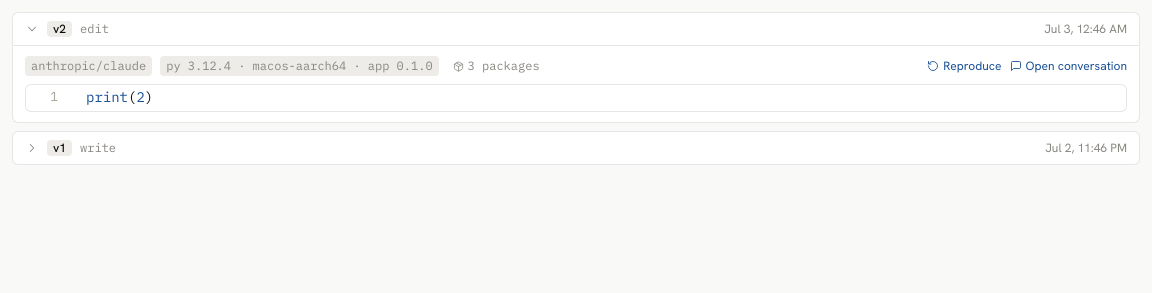
Test: ProvenancePanel › reveals the captured package lockfile on demand
The image size is (1152, 293).
Click the button "3 packages".
click(496, 66)  # box [447,56,546,76]
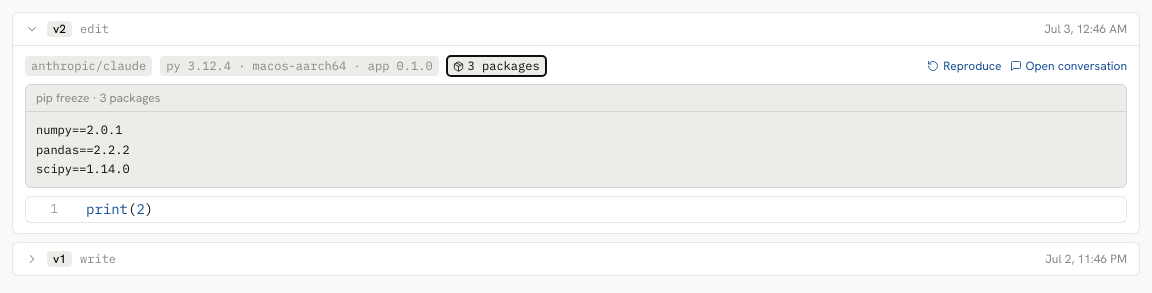
Result: the text "numpy==2.0.1 pandas==2.2.2 scipy==1.14.0" is shown at [36,122,130,176]
Result: the text "pip freeze · 3 packages" is shown at [26,85,1126,112]
